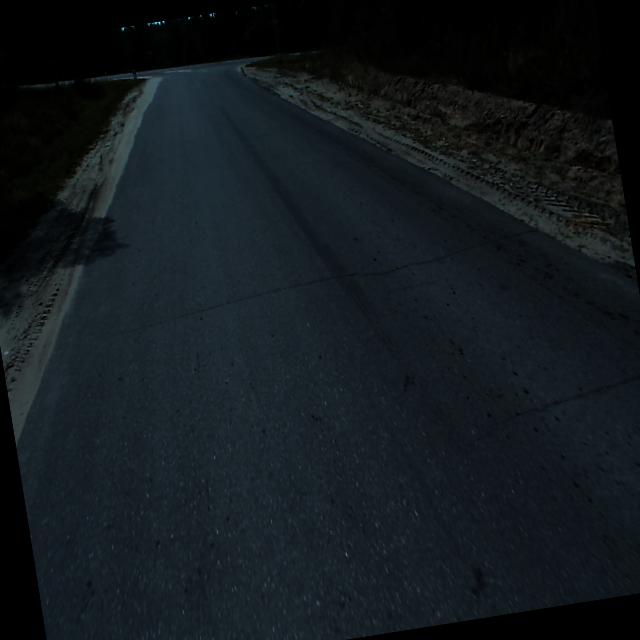road: (15, 55, 640, 640)
